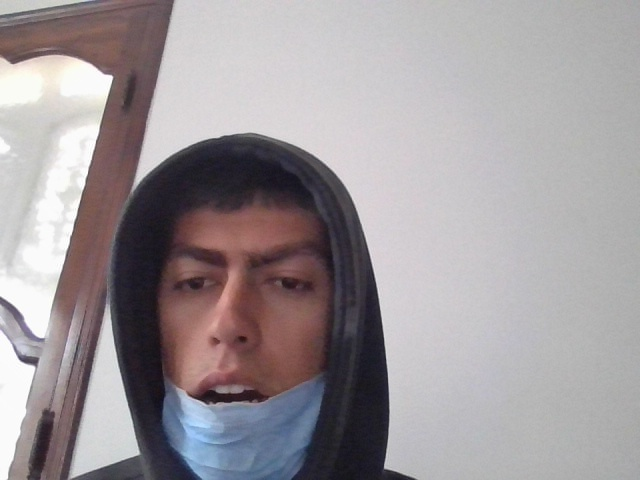mask_weared_incorrect: (144, 183, 353, 480)
